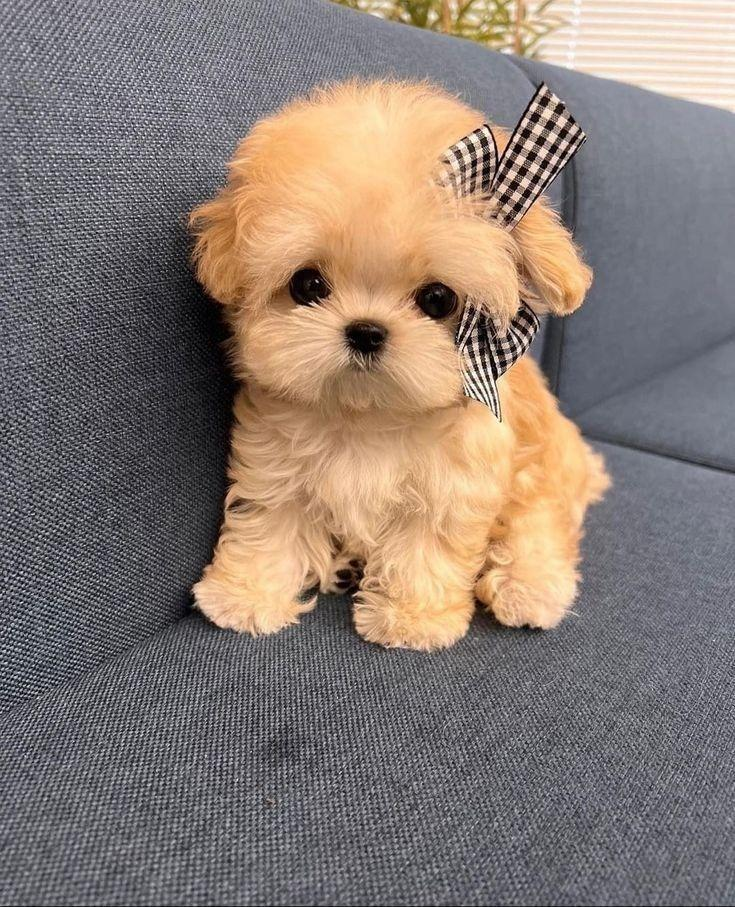puppy-dog: (189, 67, 613, 660)
